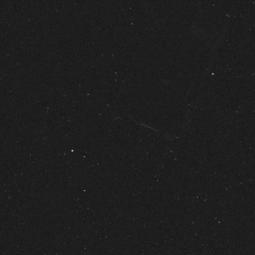proba_2: (95, 0, 243, 128)
